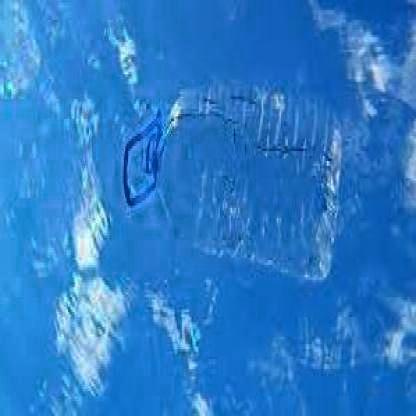pbottle: (115, 74, 344, 290)
